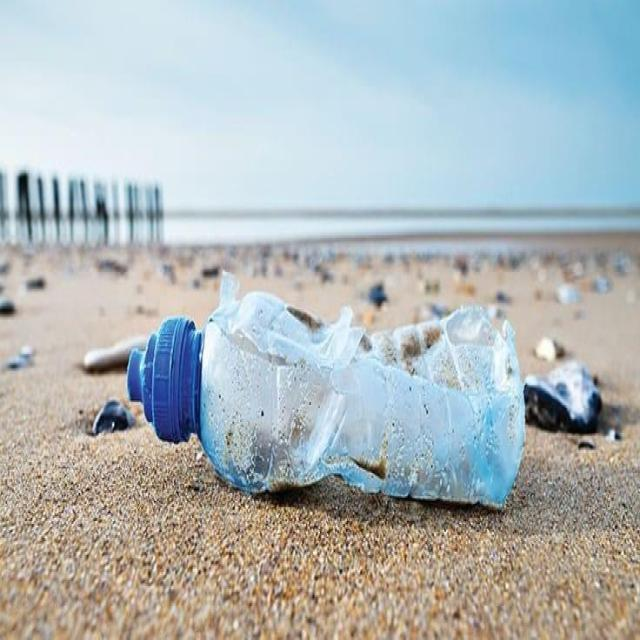bottle: (117, 271, 530, 507)
